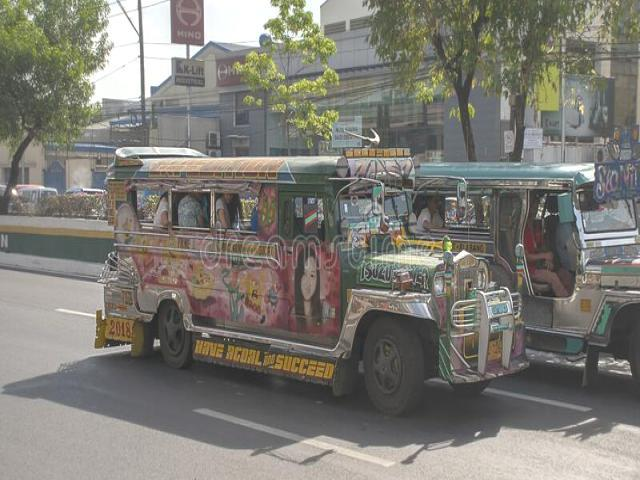jeepney: (105, 149, 526, 420), (389, 128, 640, 395)
